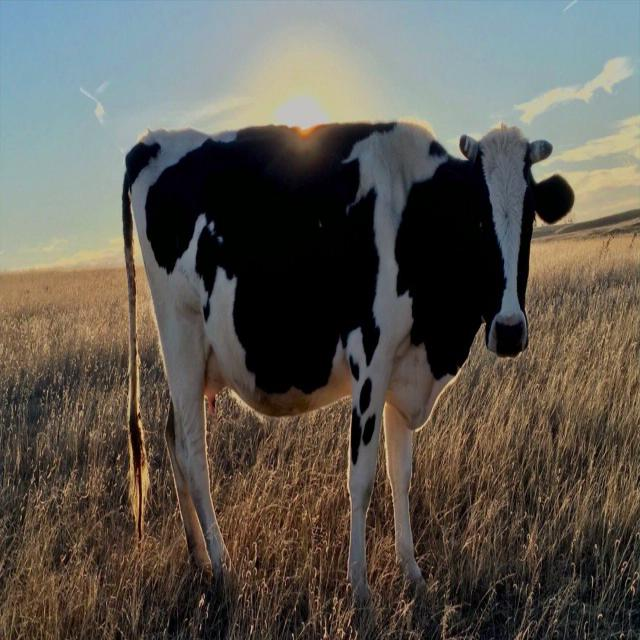cow: (122, 123, 574, 604)
